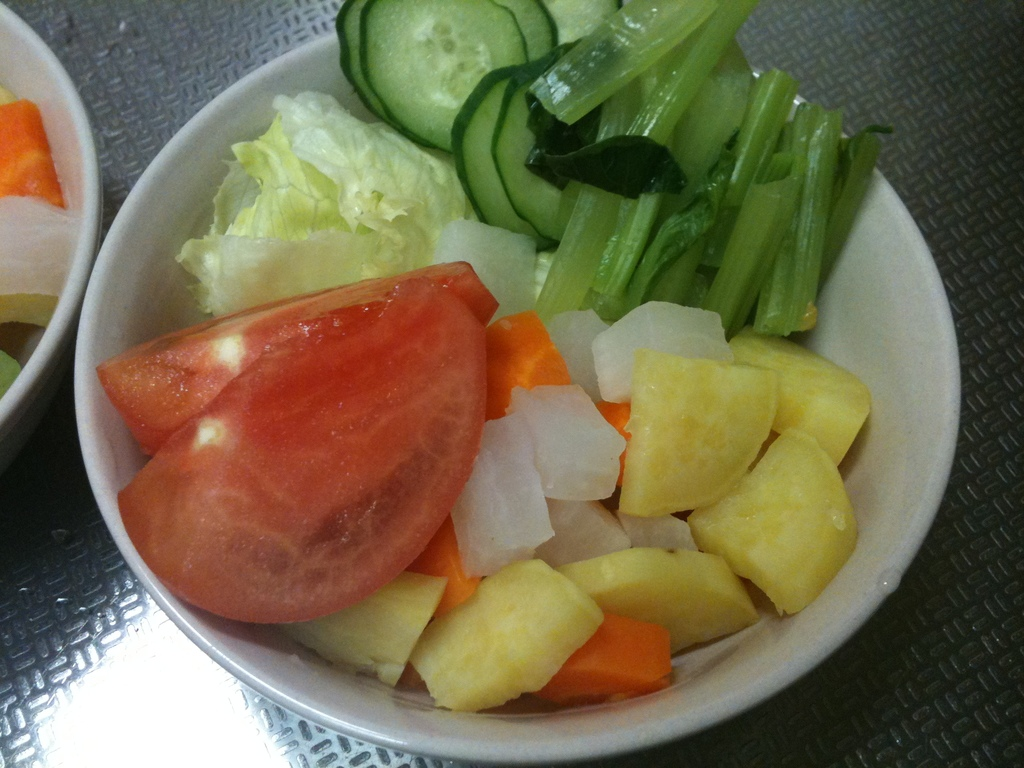salad: (93, 0, 884, 702), (0, 70, 70, 393)
